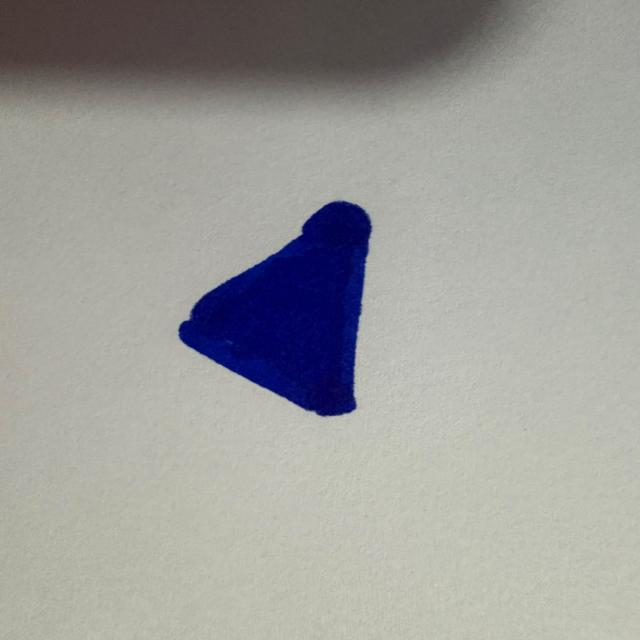Triangle: (179, 201, 372, 416)
